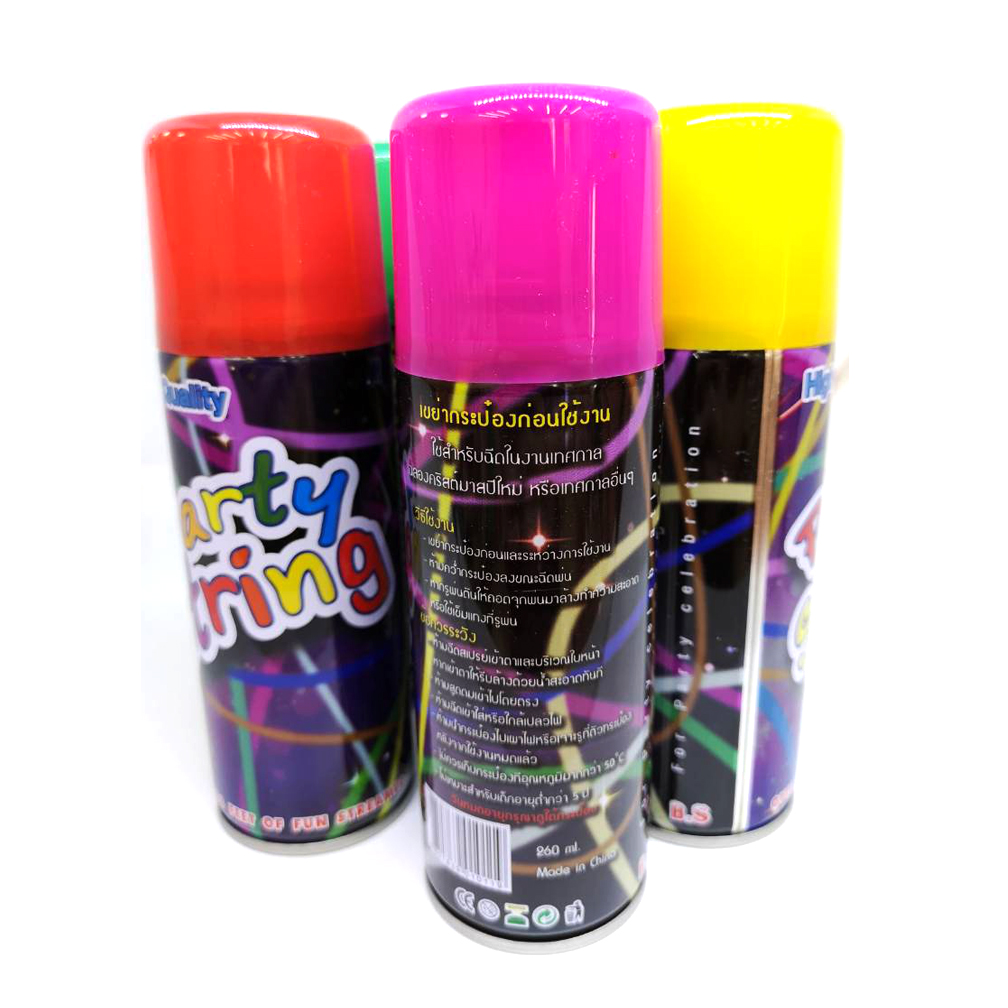Aerosol_cans: (387, 75, 654, 962), (136, 104, 424, 865), (638, 96, 848, 850)
